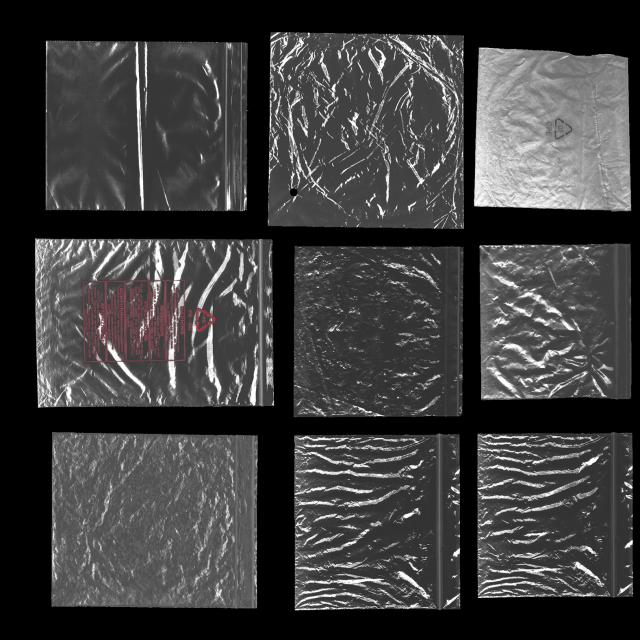Single-layer Plastic: (35, 239, 274, 406), (269, 32, 464, 228), (52, 433, 256, 607), (46, 41, 246, 210), (295, 435, 459, 608), (295, 248, 462, 416), (478, 433, 632, 598), (475, 48, 631, 210), (480, 245, 631, 399)
